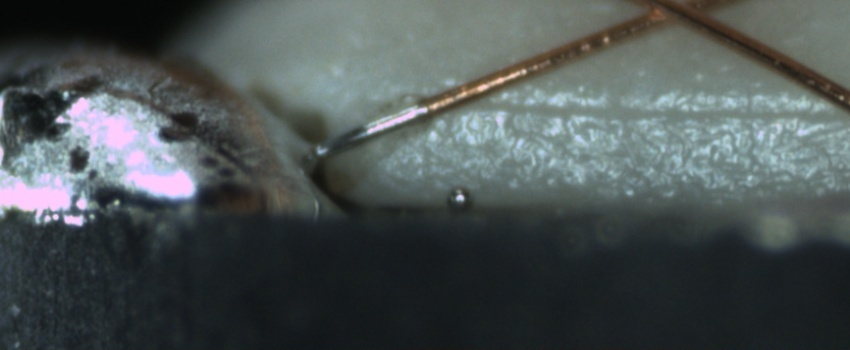CL: (628, 1, 722, 30)
DL: (409, 75, 850, 136)
TS: (316, 103, 427, 155)
